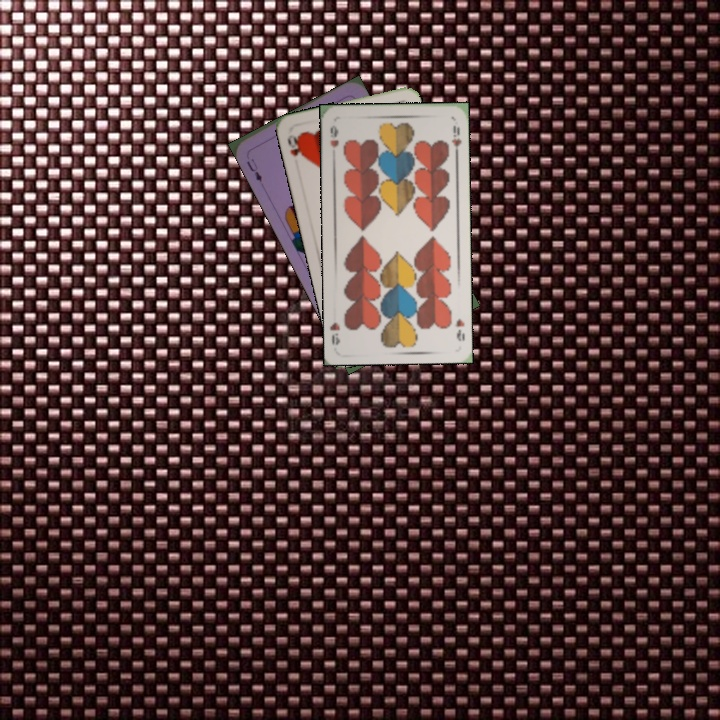EU: (243, 154, 265, 185)
H9: (451, 314, 467, 343), (326, 121, 341, 150)
HO: (283, 131, 306, 159)
